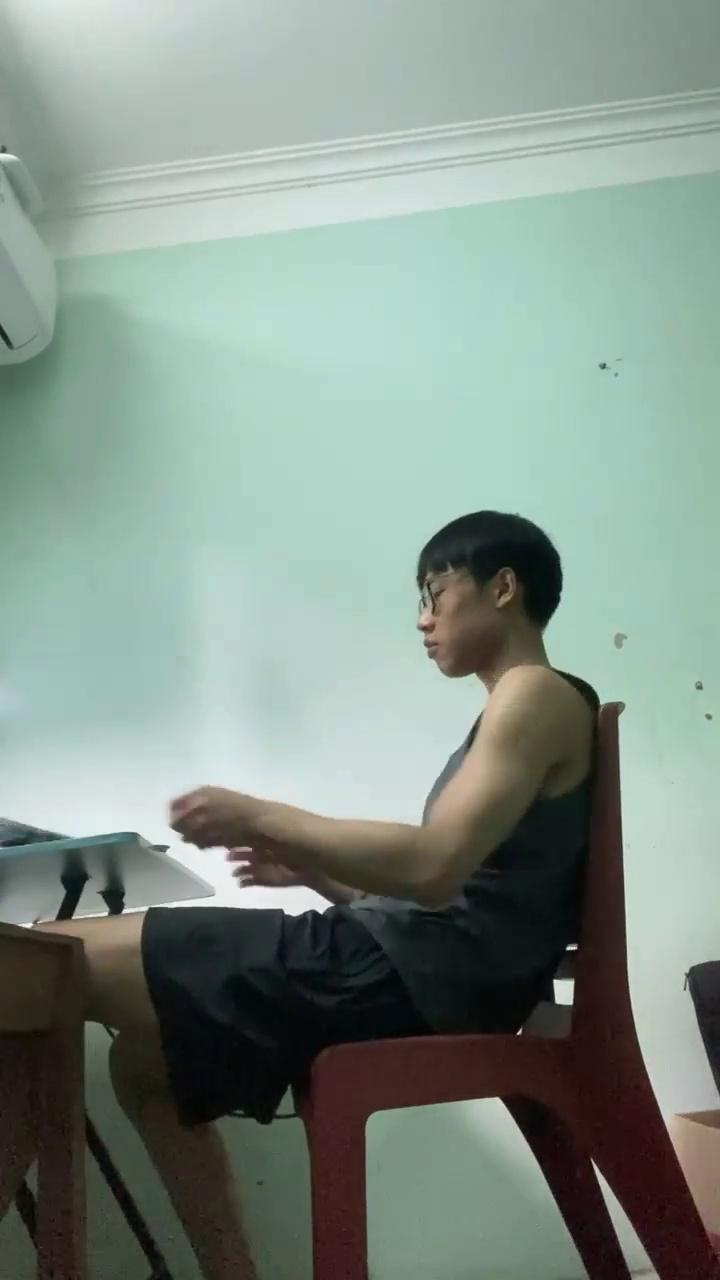BadPosture: (57, 511, 599, 1279)
